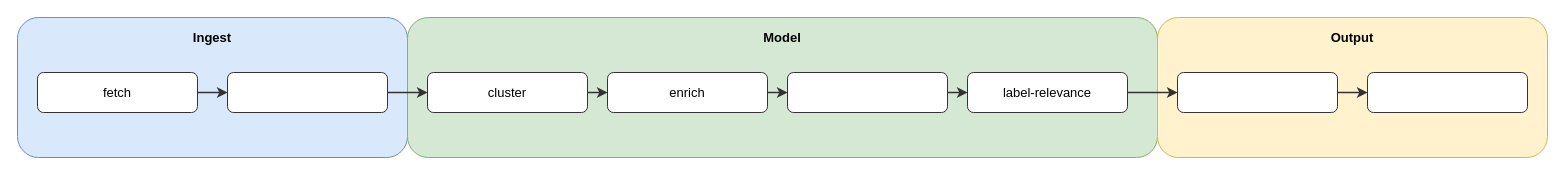
Image size: 1565x175. Some labels were removed from this diagram. The centre of each missing label's shape, as x and y in pixels:
"embed" goes at (307,92).
"label" goes at (867,92).
"report" goes at (1447,92).
"timeseries" goes at (1257,92).
